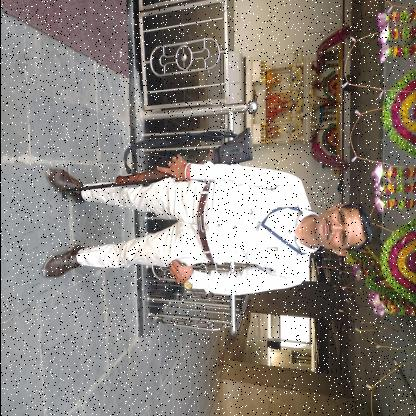rifle: (58, 125, 254, 201)
